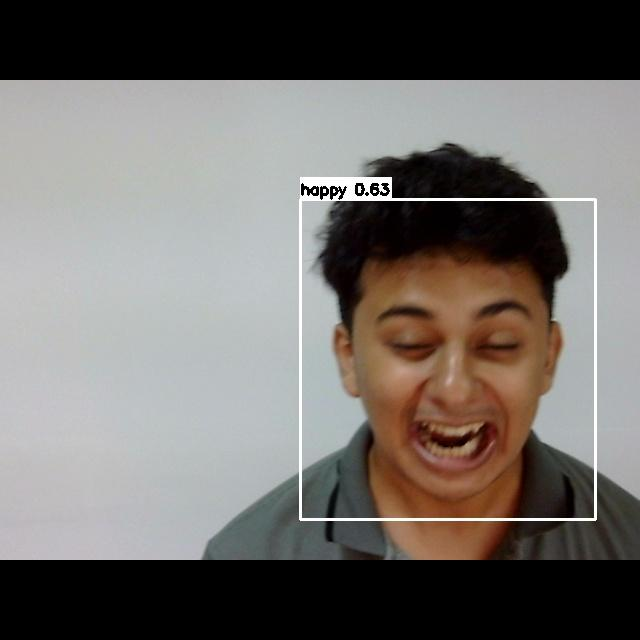Surprised: (354, 269, 557, 499)
